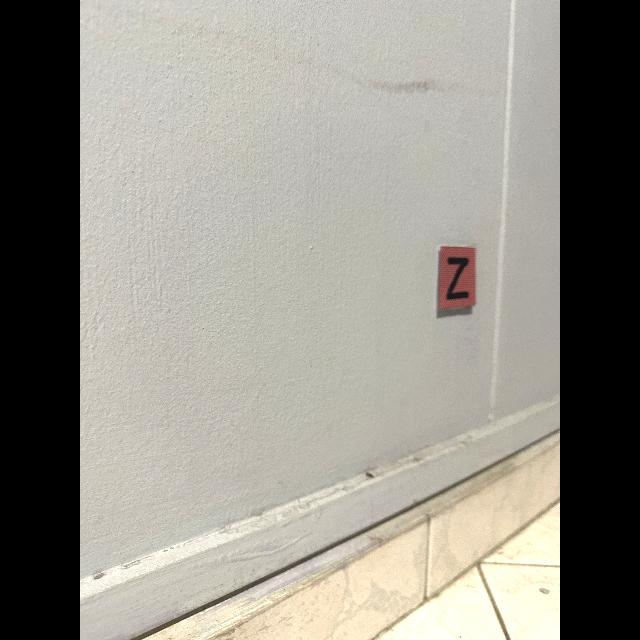Z: (446, 257, 469, 301)
